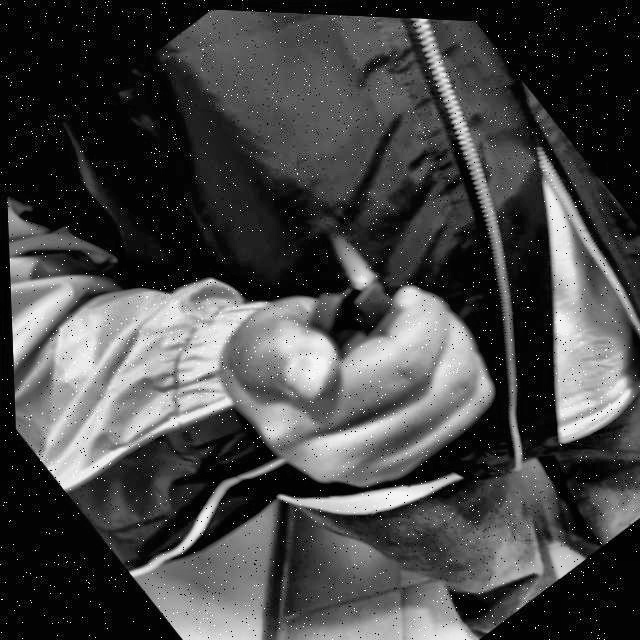Fire: (320, 220, 380, 286)
